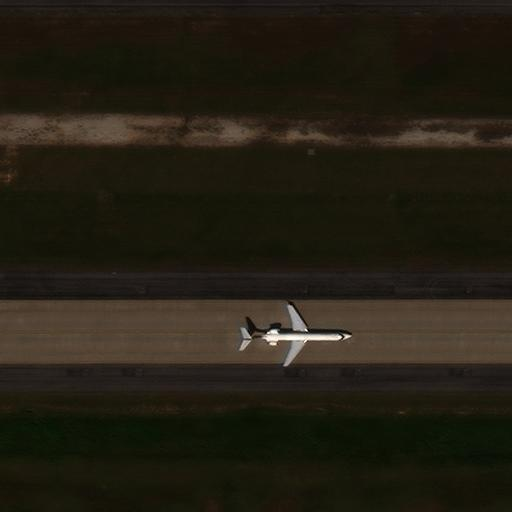Medium Civil Transport: (239, 304, 354, 366)
